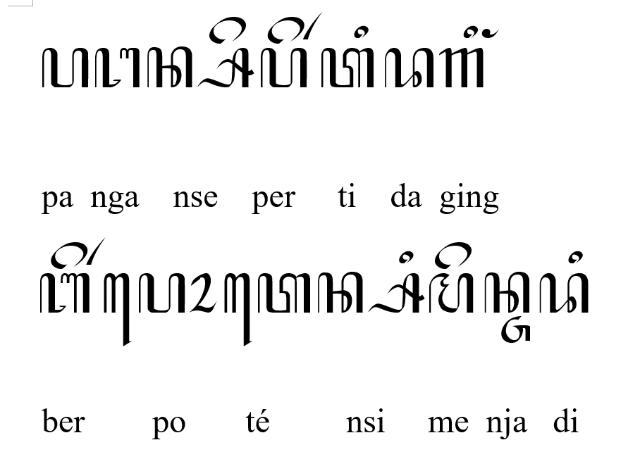_j: (501, 316, 532, 344)
_r1: (85, 237, 108, 265), (303, 11, 323, 39)
_s: (198, 46, 254, 88), (369, 272, 425, 314)
b: (40, 272, 90, 314)
d: (384, 48, 436, 88), (538, 274, 590, 314)
e: (50, 242, 88, 270), (434, 242, 472, 270), (210, 16, 247, 44), (268, 16, 304, 44)
e1: (224, 272, 252, 348), (103, 273, 131, 347)
g: (438, 47, 486, 89)
i: (398, 251, 414, 265), (354, 24, 370, 37), (568, 251, 582, 265), (462, 26, 478, 38)
m: (428, 274, 474, 314)
n: (146, 46, 194, 88), (318, 272, 364, 314), (484, 272, 530, 314)
ng: (482, 28, 500, 38)
nga: (94, 48, 140, 88)
o: (189, 272, 217, 314)
p: (137, 274, 186, 314), (260, 48, 308, 88), (42, 48, 88, 88)
t: (256, 272, 312, 314), (321, 48, 375, 88)
